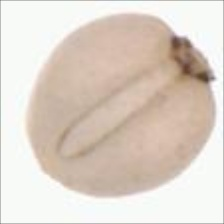L5: (54, 59, 187, 161), (163, 27, 221, 88), (33, 144, 78, 189)
L6: (21, 10, 220, 203)
